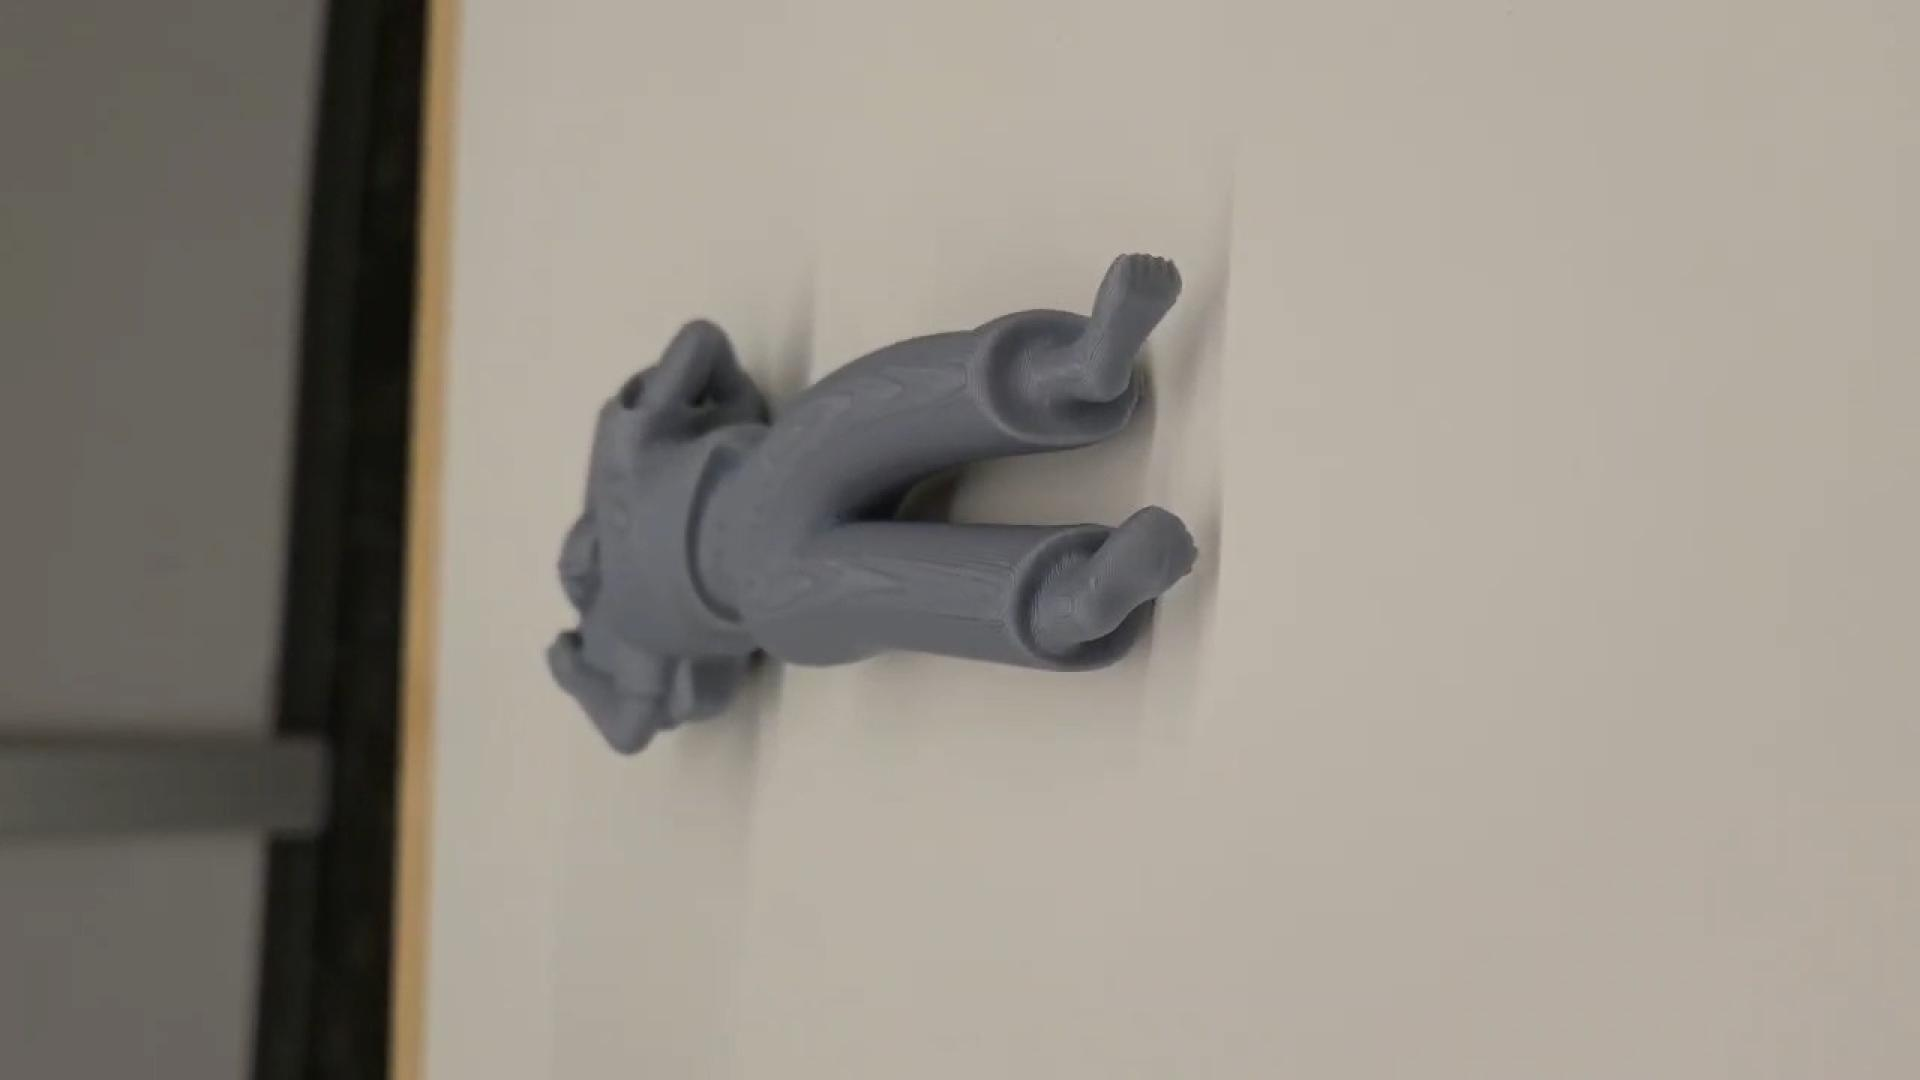Bad-style: (539, 240, 1196, 775)
